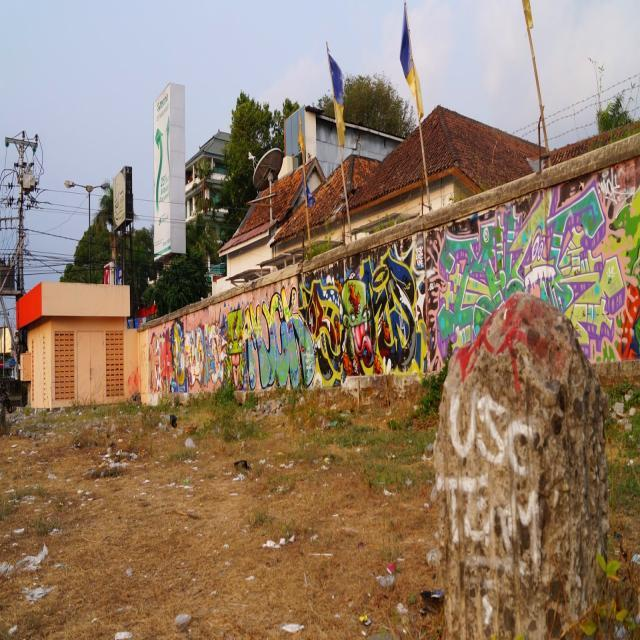-: (148, 151, 640, 399), (442, 392, 542, 562), (456, 292, 544, 387)
